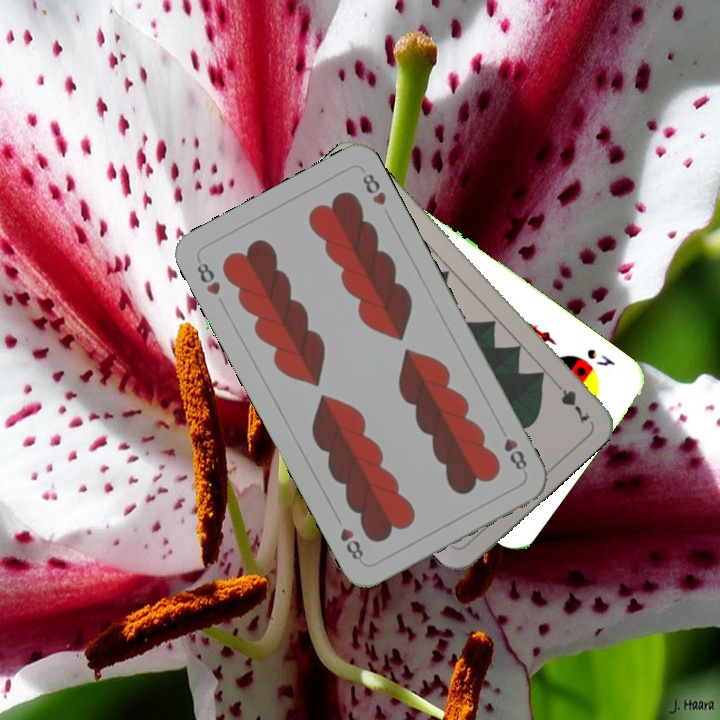G7: (548, 375, 593, 427)
H8: (192, 254, 223, 298), (499, 434, 530, 475)
SK: (582, 344, 618, 369)
